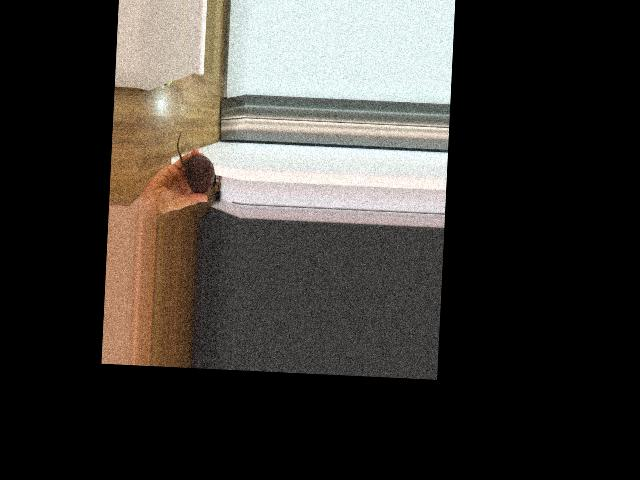beet: (174, 131, 218, 193)
